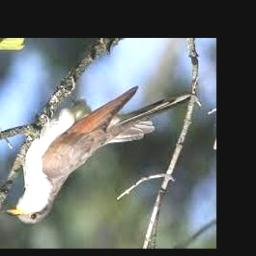Cuckoo: (6, 86, 155, 224)
